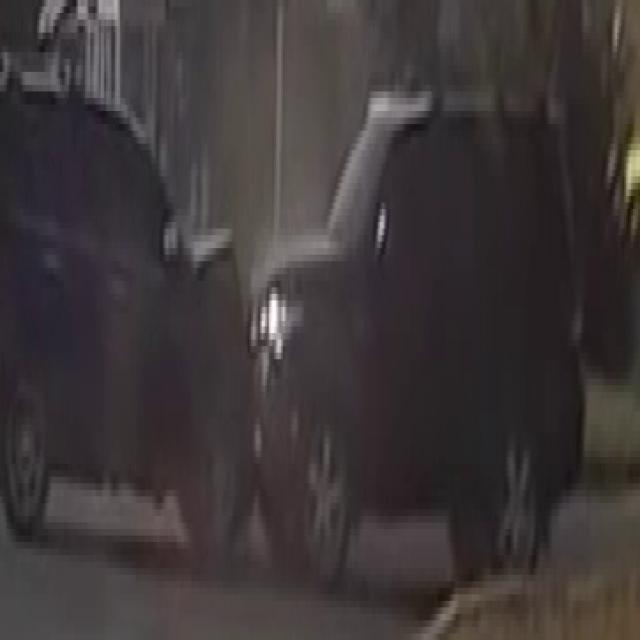accident: (47, 41, 479, 598)
